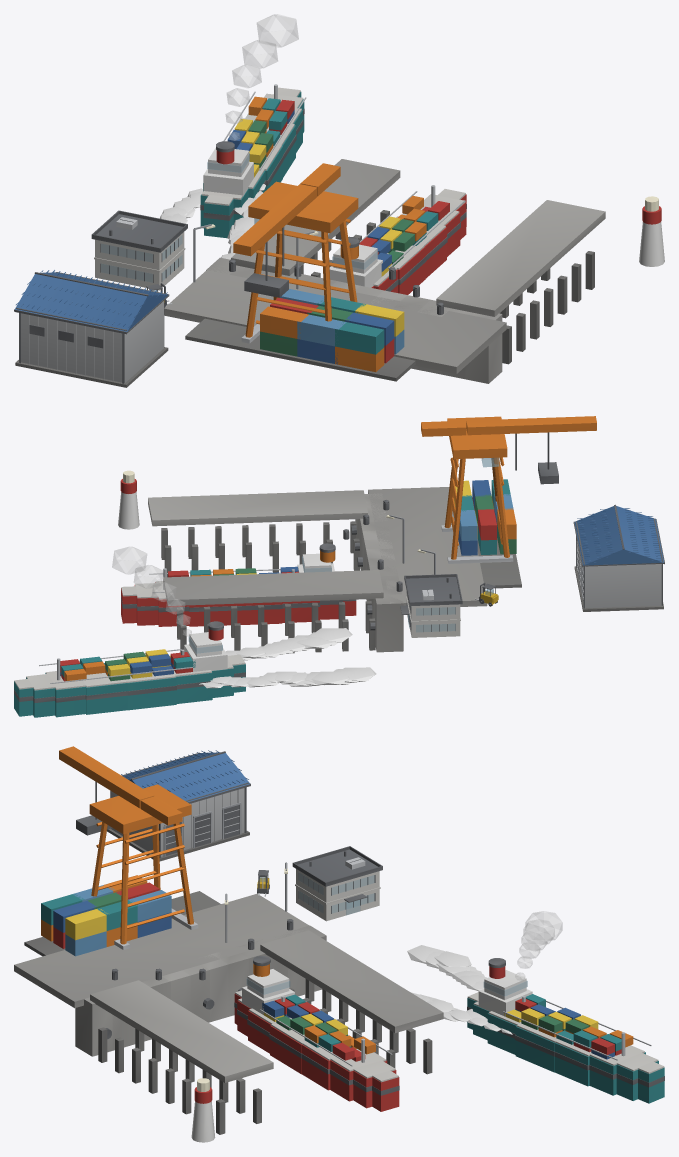
File: Port_P2.fbx
3 renders of one model, top to bottom at view 1: azimuth 30°, elevation 25°; view 2: azimuth 150°, elevation 25°; view 3: azimuth 270°, elevation 25°, orthographic. The views are drawn at different scales.
Parts seen in each view (by area): view 1: Port.Shed, Port.Apron, Port.Pier1, Port.Crane0, Port.ShipOut, Port.Ship0, Port.Containers, Port.Control, Port.Pier0, Port.QuayWall, Port.ShipSmoke, Port.Wake (+1 smaller); view 2: Port.ShipOut, Port.Pier1, Port.Pier0, Port.Apron, Port.Shed, Port.Crane0, Port.Ship0, Port.QuayWall, Port.Wake, Port.Containers, Port.Control, Port.ShipSmoke (+1 smaller); view 3: Port.Apron, Port.ShipOut, Port.Ship0, Port.Pier1, Port.Pier0, Port.Crane0, Port.Shed, Port.QuayWall, Port.Containers, Port.Control, Port.Wake, Port.ShipSmoke (+1 smaller).
Boxes of the visible parts, x1,y1,x2,y2 form: Port.Shed: [14, 270, 169, 387]; Port.Apron: [164, 265, 506, 381]; Port.Pier1: [436, 200, 605, 364]; Port.Crane0: [233, 163, 358, 343]; Port.ShipOut: [200, 84, 306, 238]; Port.Ship0: [329, 185, 466, 294]; Port.Containers: [260, 289, 404, 372]; Port.Control: [91, 210, 187, 290]; Port.Pier0: [231, 159, 400, 277]; Port.QuayWall: [206, 257, 502, 383]; Port.ShipSmoke: [225, 14, 298, 140]; Port.Wake: [159, 184, 265, 259]; Port.ShipOut: [14, 621, 245, 717]; Port.Pier1: [148, 490, 367, 577]; Port.Pier0: [163, 570, 383, 653]; Port.Apron: [368, 487, 521, 606]; Port.Shed: [573, 504, 664, 611]; Port.Crane0: [421, 416, 596, 563]; Port.Ship0: [121, 543, 356, 626]; Port.QuayWall: [351, 493, 403, 652]; Port.Wake: [199, 628, 376, 688]; Port.Containers: [452, 479, 516, 555]; Port.Control: [400, 574, 462, 637]; Port.ShipSmoke: [112, 546, 191, 636]; Port.Apron: [14, 891, 308, 1008]; Port.ShipOut: [467, 958, 664, 1103]; Port.Ship0: [234, 956, 399, 1111]; Port.Pier1: [90, 980, 273, 1134]; Port.Pier0: [260, 930, 443, 1074]; Port.Crane0: [59, 746, 198, 949]; Port.Shed: [107, 750, 250, 861]; Port.QuayWall: [75, 925, 326, 1056]; Port.Containers: [41, 875, 171, 956]; Port.Control: [292, 846, 382, 921]; Port.Wake: [407, 945, 512, 1034]; Port.ShipSmoke: [515, 911, 562, 980].
Bounding box in the file's own units: 11599 × 3580 × 11003.
